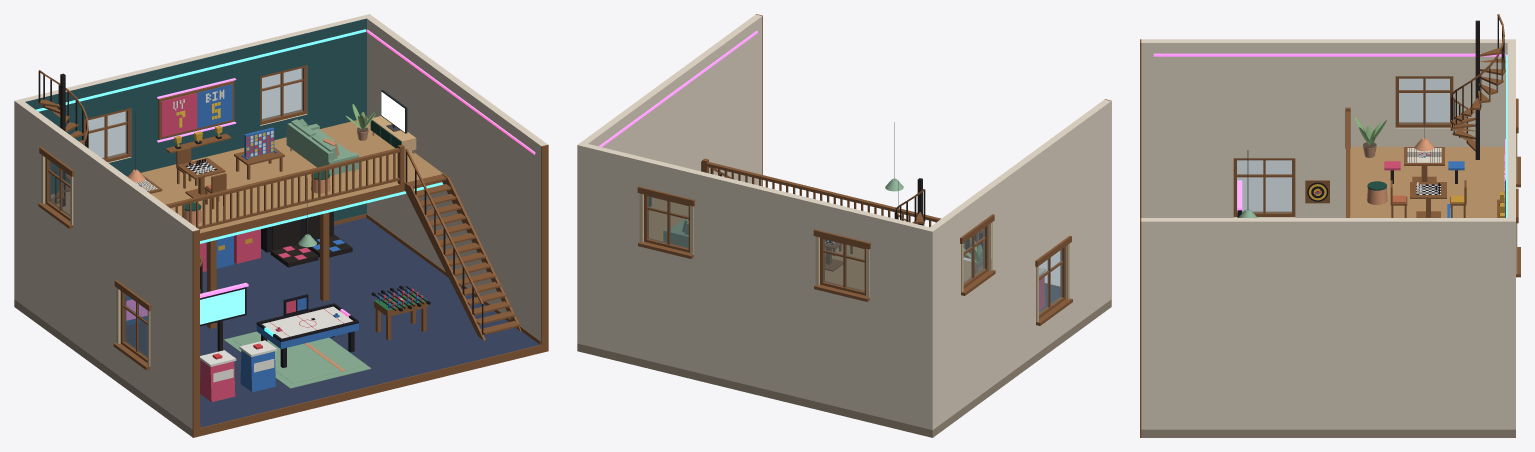
The model's file is map-game.glb.
The picture shows the model from 3 angles, left to right: view 1: azimuth 30°, elevation 25°; view 2: azimuth 150°, elevation 25°; view 3: azimuth 270°, elevation 25°; orthographic projection. The views are drawn at different scales.
Visible parts, largest first — view 1: Walls, Floor_Slab, Mezzanine, Mezz_Rail, Quiz_Booth, Windows_Glass, Score_Board, Stair, Air_Hockey, Living_Rug, Stair_Rail, Dance_Machine (+9 smaller); view 2: Walls, Windows_Glass, Floor_Slab, Mezzanine, Mezz_Rail, Spiral_Stair, Neon_Strips; view 3: Walls, Mezzanine, Windows_Glass, Floor_Slab, Spiral_Stair, Neon_Strips, Card_Table, Caro_Table, Dartboard, Mezz_Rail, Plant_Loft_A, Pouf.
Boxes of the visible parts, x1=… form: Walls: x1=14, y1=14, x2=548, y2=437; Floor_Slab: x1=14, y1=217, x2=539, y2=437; Mezzanine: x1=51, y1=118, x2=442, y2=240; Mezz_Rail: x1=165, y1=144, x2=443, y2=328; Quiz_Booth: x1=200, y1=282, x2=276, y2=402; Windows_Glass: x1=49, y1=68, x2=302, y2=358; Score_Board: x1=157, y1=78, x2=236, y2=153; Stair: x1=407, y1=174, x2=519, y2=334; Air_Hockey: x1=256, y1=294, x2=358, y2=367; Living_Rug: x1=224, y1=331, x2=371, y2=388; Stair_Rail: x1=404, y1=148, x2=521, y2=340; Dance_Machine: x1=261, y1=211, x2=352, y2=267; Walls: x1=577, y1=14, x2=1111, y2=429; Windows_Glass: x1=648, y1=196, x2=1062, y2=313; Floor_Slab: x1=577, y1=283, x2=1111, y2=437; Mezzanine: x1=649, y1=197, x2=971, y2=290; Mezz_Rail: x1=702, y1=158, x2=982, y2=258; Spiral_Stair: x1=894, y1=178, x2=925, y2=225; Neon_Strips: x1=599, y1=31, x2=757, y2=146; Walls: x1=1140, y1=39, x2=1520, y2=437; Mezzanine: x1=1350, y1=147, x2=1504, y2=217; Windows_Glass: x1=1237, y1=78, x2=1449, y2=212; Floor_Slab: x1=1141, y1=429, x2=1515, y2=437; Spiral_Stair: x1=1450, y1=14, x2=1505, y2=159; Neon_Strips: x1=1153, y1=53, x2=1507, y2=217; Card_Table: x1=1390, y1=180, x2=1466, y2=217; Caro_Table: x1=1384, y1=147, x2=1464, y2=183; Dartboard: x1=1305, y1=180, x2=1329, y2=203; Mezz_Rail: x1=1345, y1=107, x2=1350, y2=217; Plant_Loft_A: x1=1355, y1=117, x2=1386, y2=157; Pouf: x1=1367, y1=181, x2=1387, y2=204.
Bounding box in the file's own units: 10.62 × 6.74 × 9.28.
